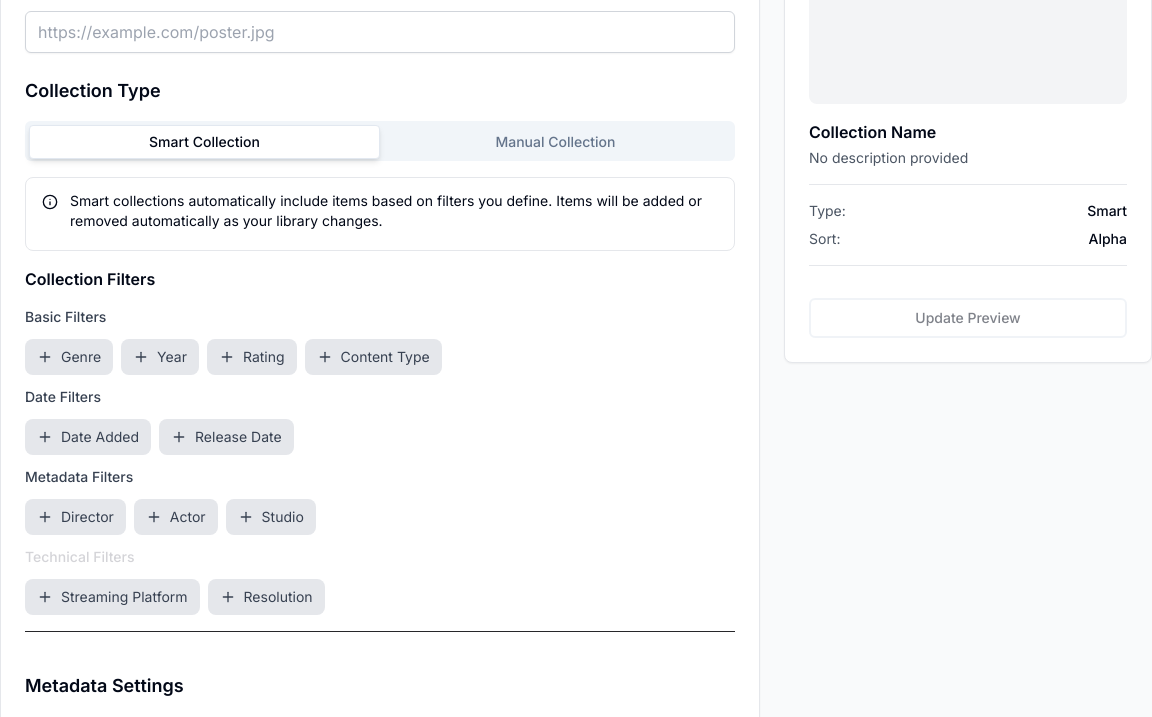
Test: CollectionBuilder › handles update preview button click
This screenshot has width=1152, height=717.
(page scrolled)
Check: the button "Update Preview" is disabled, box [809, 298, 1127, 338]
// Add a genre filter
Click the button "Genre".
click(69, 357)  # box [25, 339, 113, 375]
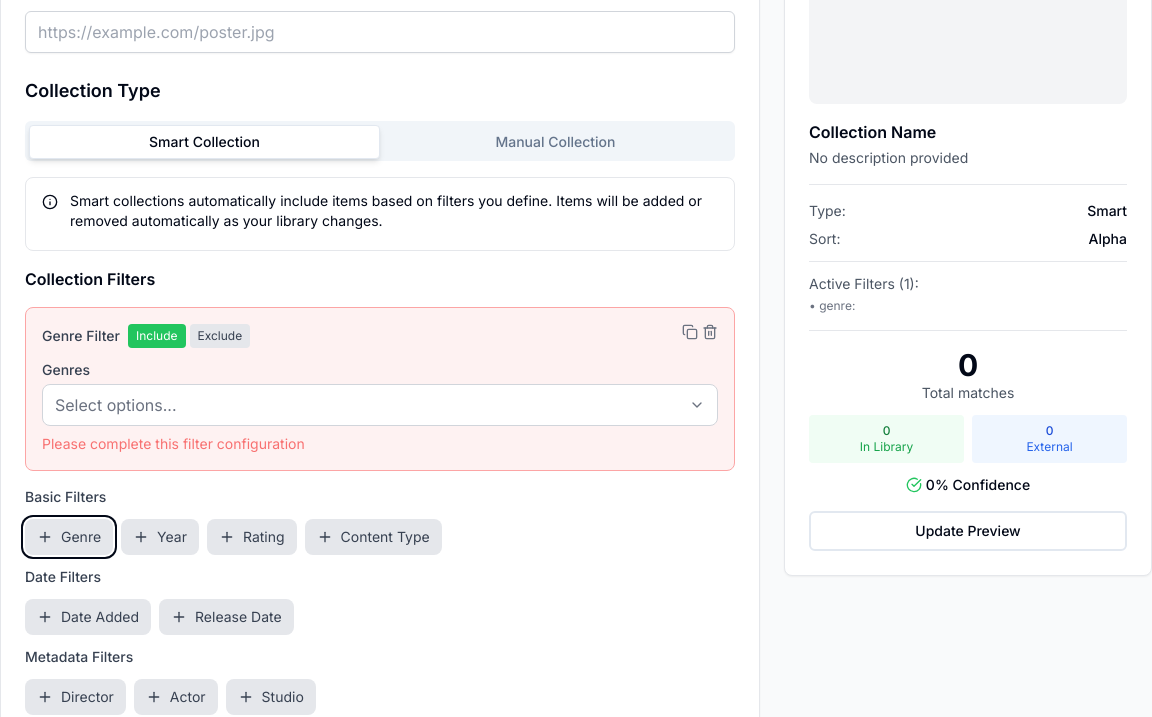
Check: the text "Genres" is shown, box [42, 361, 90, 378]
Check: the text "Total matches" is shown, box [922, 384, 1014, 401]
